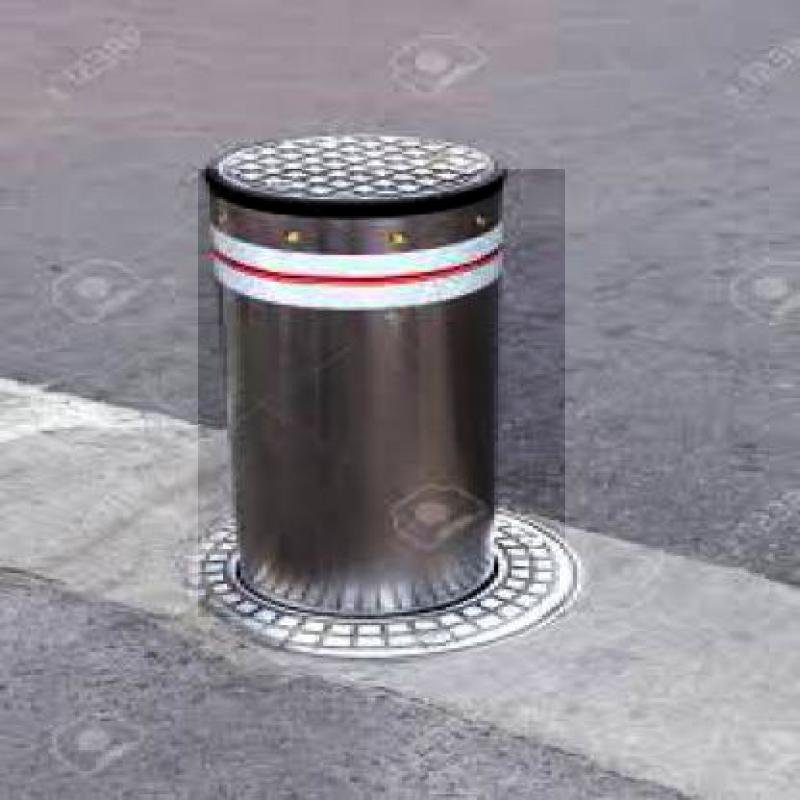bolard: (198, 169, 565, 618)
